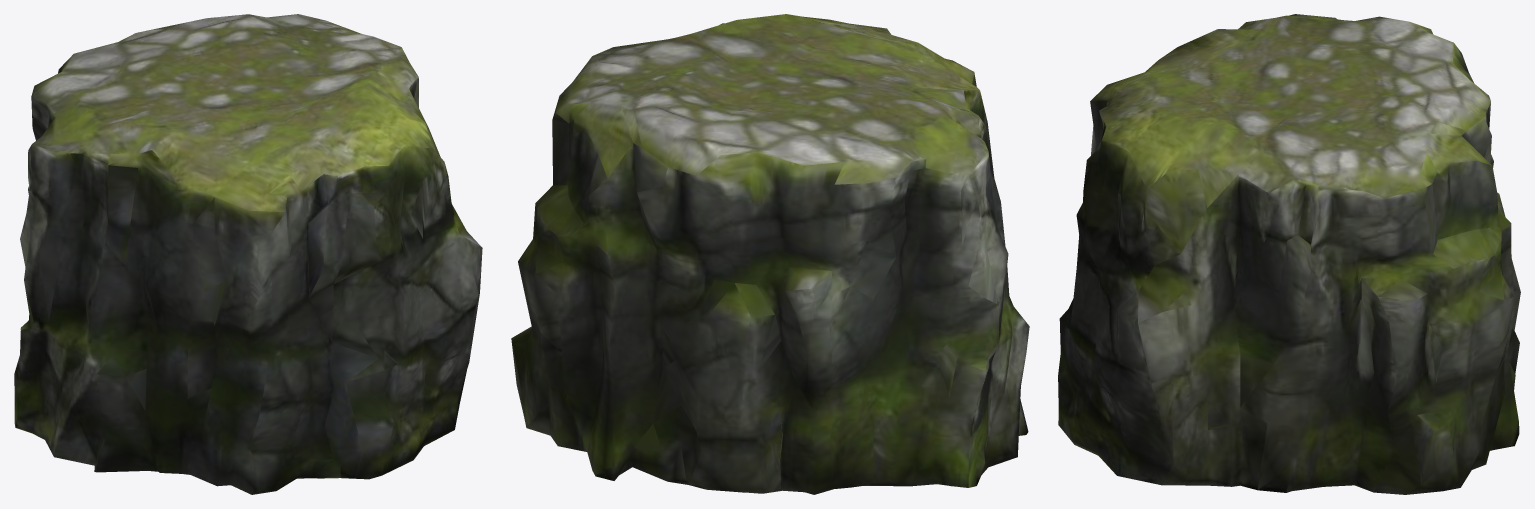
Rendered from fels-moosblock.glb.
The picture shows the model from 3 angles, left to right: view 1: azimuth 30°, elevation 25°; view 2: azimuth 150°, elevation 25°; view 3: azimuth 270°, elevation 25°; orthographic projection. The views are drawn at different scales.
Visible parts, largest first — view 1: Mesh0; view 2: Mesh0; view 3: Mesh0.
Part boxes in pixels (box(x1,y1,x2,y2)): Mesh0: box(14, 14, 482, 494); Mesh0: box(511, 14, 1029, 494); Mesh0: box(1058, 14, 1520, 494).
Bounding box in the file's own units: 1.99 × 1.54 × 1.93.
Materials: 1 (1 with a texture image).
